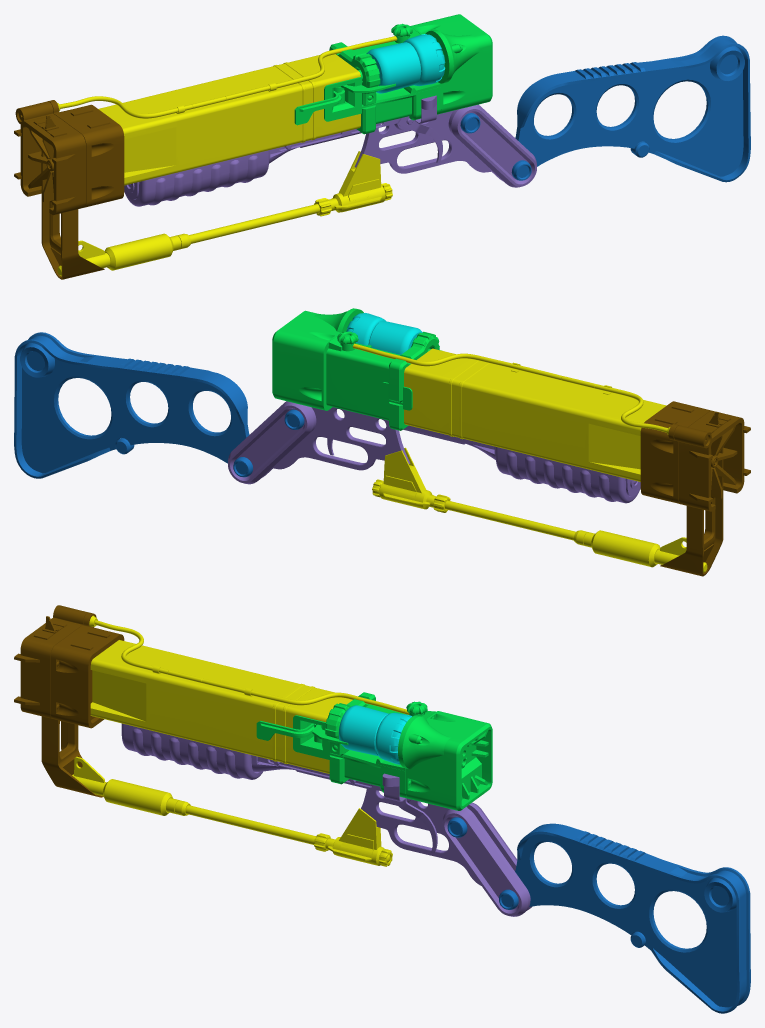
Rendered from AER9.fbx.
The picture shows the model from 3 angles, top to bottom: view 1: azimuth 30°, elevation 25°; view 2: azimuth 150°, elevation 25°; view 3: azimuth 330°, elevation 25°; orthographic projection.
Parts seen in each view (by area): view 1: AER9_1002, AER9_1005, AER9_1001, AER9_1004, AER9_1003, AER9_1006; view 2: AER9_1002, AER9_1005, AER9_1001, AER9_1003, AER9_1004, AER9_1006; view 3: AER9_1002, AER9_1005, AER9_1003, AER9_1004, AER9_1001, AER9_1006.
Boxes of the visible parts, x1,y1,x2,y2 form: AER9_1002: [57, 36, 397, 276]; AER9_1005: [460, 35, 750, 182]; AER9_1001: [14, 100, 124, 279]; AER9_1004: [124, 95, 536, 206]; AER9_1003: [294, 14, 492, 134]; AER9_1006: [366, 34, 445, 93]; AER9_1002: [352, 343, 707, 572]; AER9_1005: [14, 332, 304, 478]; AER9_1001: [640, 401, 750, 576]; AER9_1003: [272, 308, 441, 430]; AER9_1004: [228, 401, 640, 503]; AER9_1006: [346, 313, 422, 354]; AER9_1002: [72, 615, 409, 866]; AER9_1005: [447, 817, 750, 1013]; AER9_1003: [256, 692, 492, 810]; AER9_1004: [121, 723, 531, 916]; AER9_1001: [14, 605, 124, 797]; AER9_1006: [338, 705, 411, 764].
Size of the model in its own units: 67.88 by 20.78 by 8.03.
